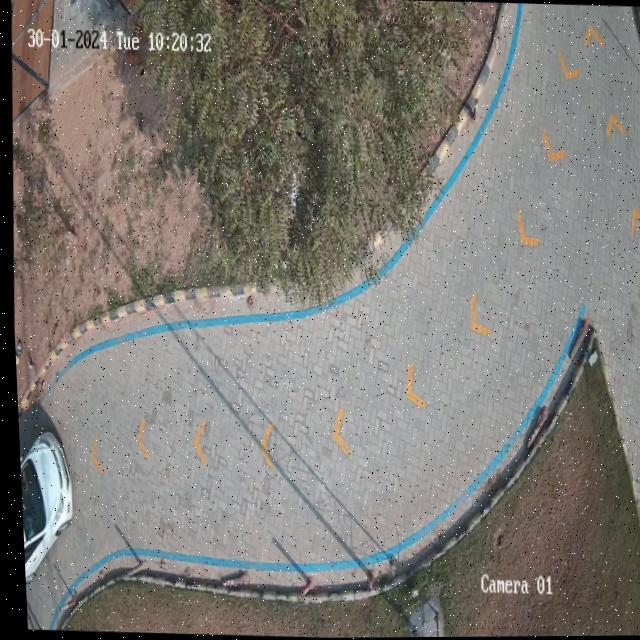car: (16, 432, 67, 583)
